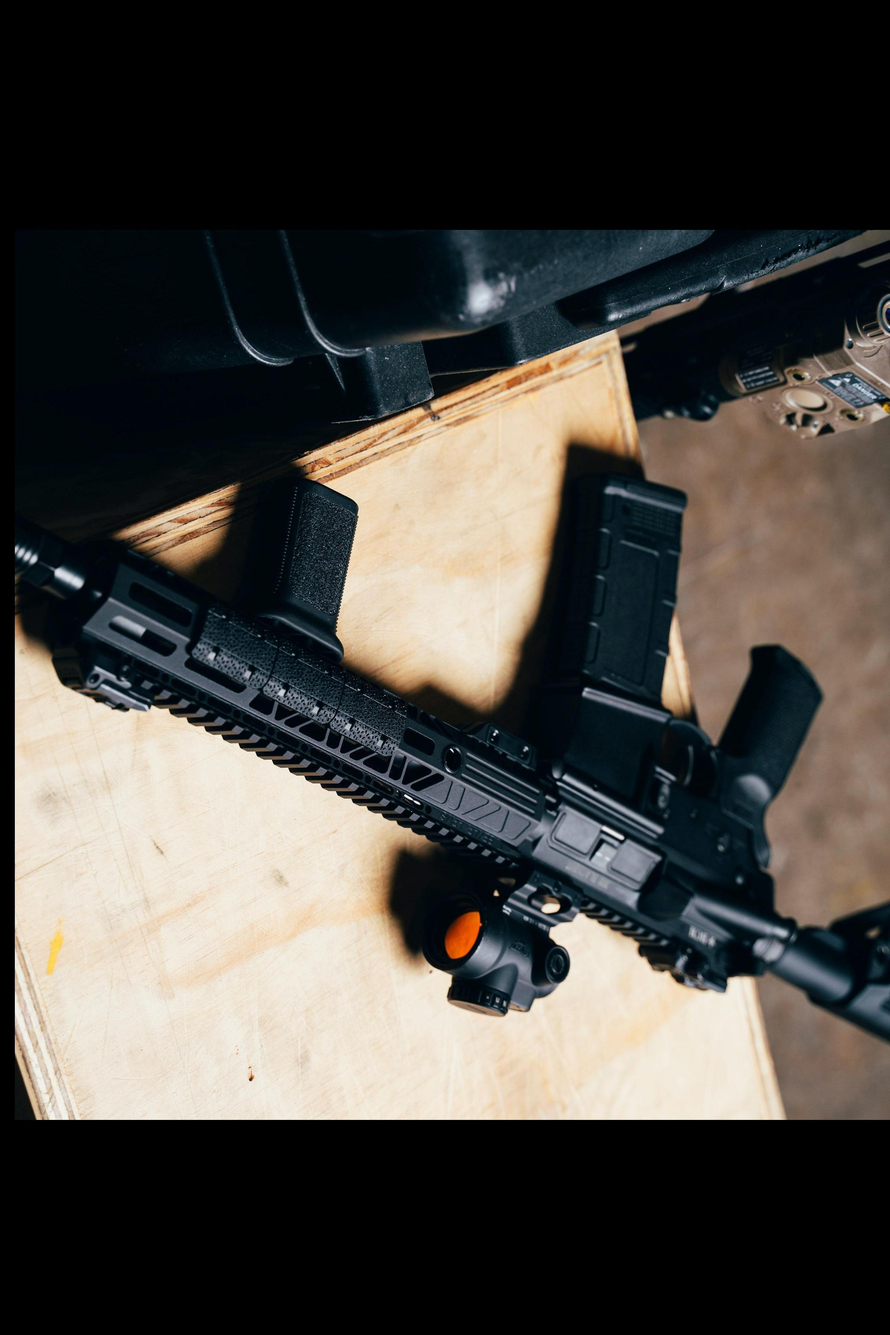larga: (14, 460, 890, 1046)
